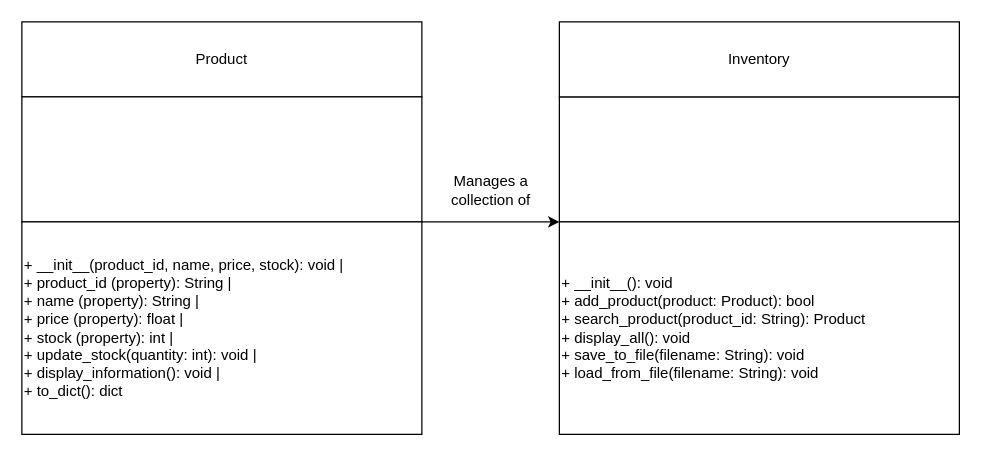
Image size: 981x456. Some labels were removed from this diagram. Each missing label, with the box of its shape:
- _product_id :String - name: String - _price: float - _stock: int: (21, 96, 422, 222)
| - _products: dict[String, Product]: (558, 96, 959, 222)
